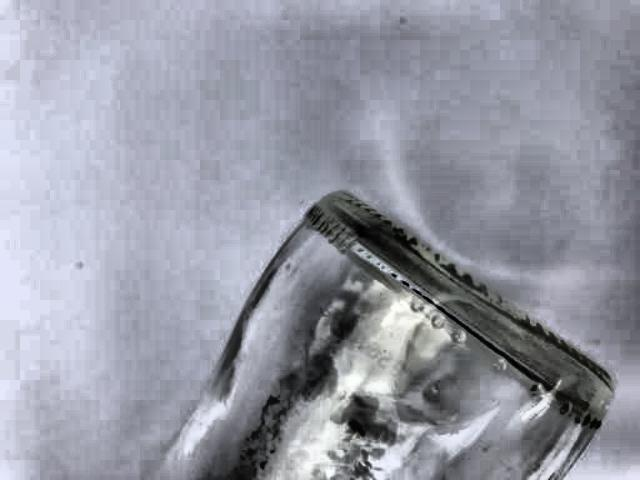Almennt: (108, 190, 619, 480)
